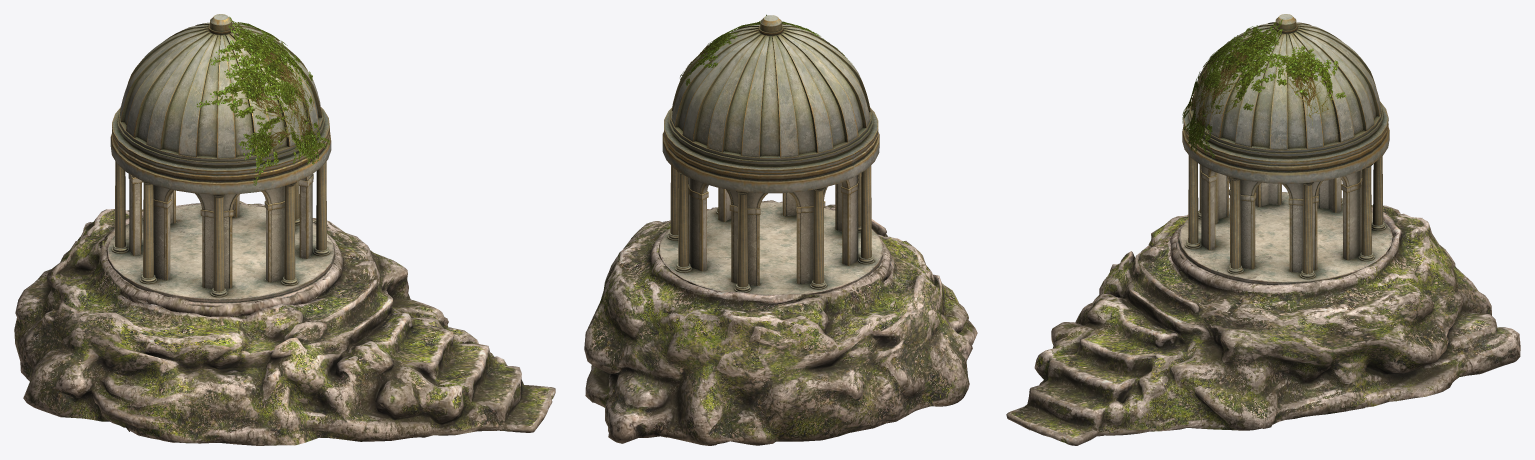
Rendered from Rotonda.dae.
The picture shows the model from 3 angles, left to right: view 1: azimuth 30°, elevation 25°; view 2: azimuth 150°, elevation 25°; view 3: azimuth 270°, elevation 25°; orthographic projection. The views are drawn at different scales.
Visible parts, largest first — view 1: prim4, prim0, prim3, prim1, prim2; view 2: prim4, prim0, prim3, prim2, prim1; view 3: prim4, prim0, prim3, prim2, prim1.
Part boxes in pixels (x1,y1,x2,y2): prim4: [14, 201, 555, 445]; prim0: [110, 14, 331, 297]; prim3: [106, 204, 336, 307]; prim1: [196, 16, 329, 185]; prim2: [128, 174, 313, 289]; prim4: [584, 200, 977, 445]; prim0: [662, 15, 879, 292]; prim3: [658, 202, 883, 295]; prim2: [688, 175, 858, 285]; prim1: [680, 14, 847, 85]; prim4: [1006, 198, 1520, 445]; prim0: [1182, 14, 1389, 279]; prim3: [1176, 192, 1393, 284]; prim2: [1200, 165, 1362, 272]; prim1: [1182, 19, 1346, 158].
Size of the model in its own units: 15.44 by 17.6 by 12.52.
Materials: 5 (5 with a texture image).
